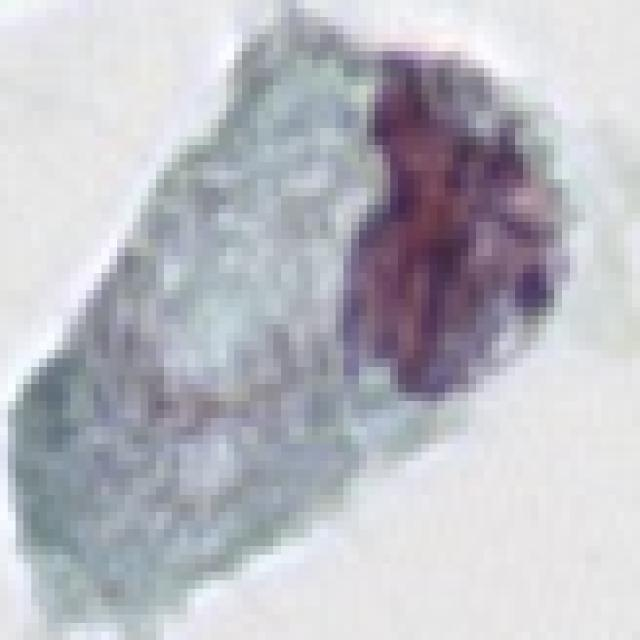nucleus: (320, 54, 589, 399)
